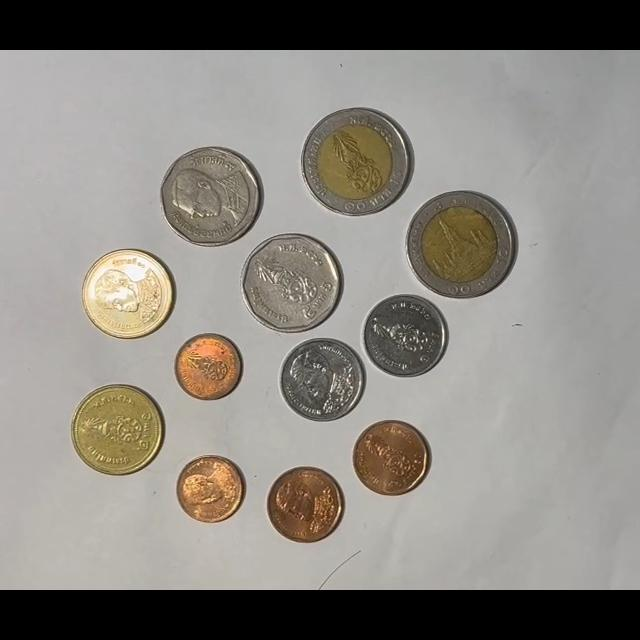1-baht: (279, 338, 366, 423), (362, 294, 447, 379)
10-baht: (301, 107, 413, 217), (405, 190, 516, 299)
2-baht: (81, 248, 174, 341), (71, 384, 164, 476)
25-satang: (176, 455, 247, 525), (174, 333, 243, 400)
5-baht: (160, 146, 263, 247), (240, 233, 343, 334)
50-satang: (266, 466, 345, 543), (352, 420, 430, 496)
